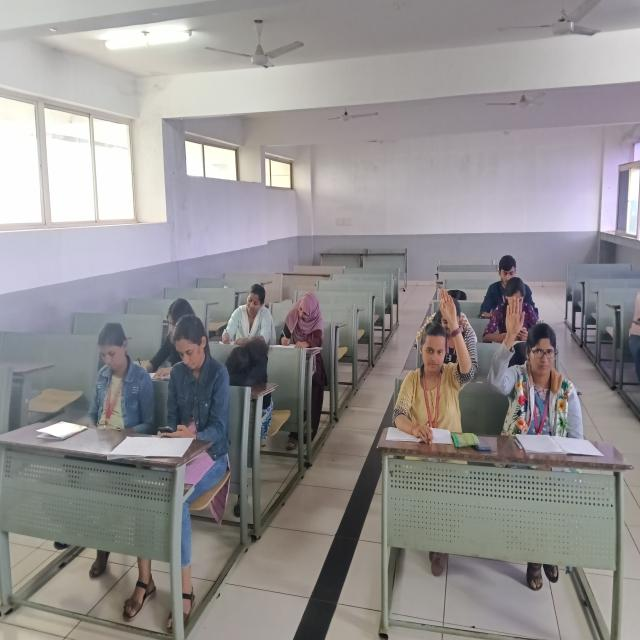Hand Rising: (489, 290, 587, 423), (402, 279, 480, 416)
Using Phone: (147, 319, 245, 494)
Writing: (128, 265, 216, 394), (210, 250, 276, 358), (274, 273, 332, 370)
